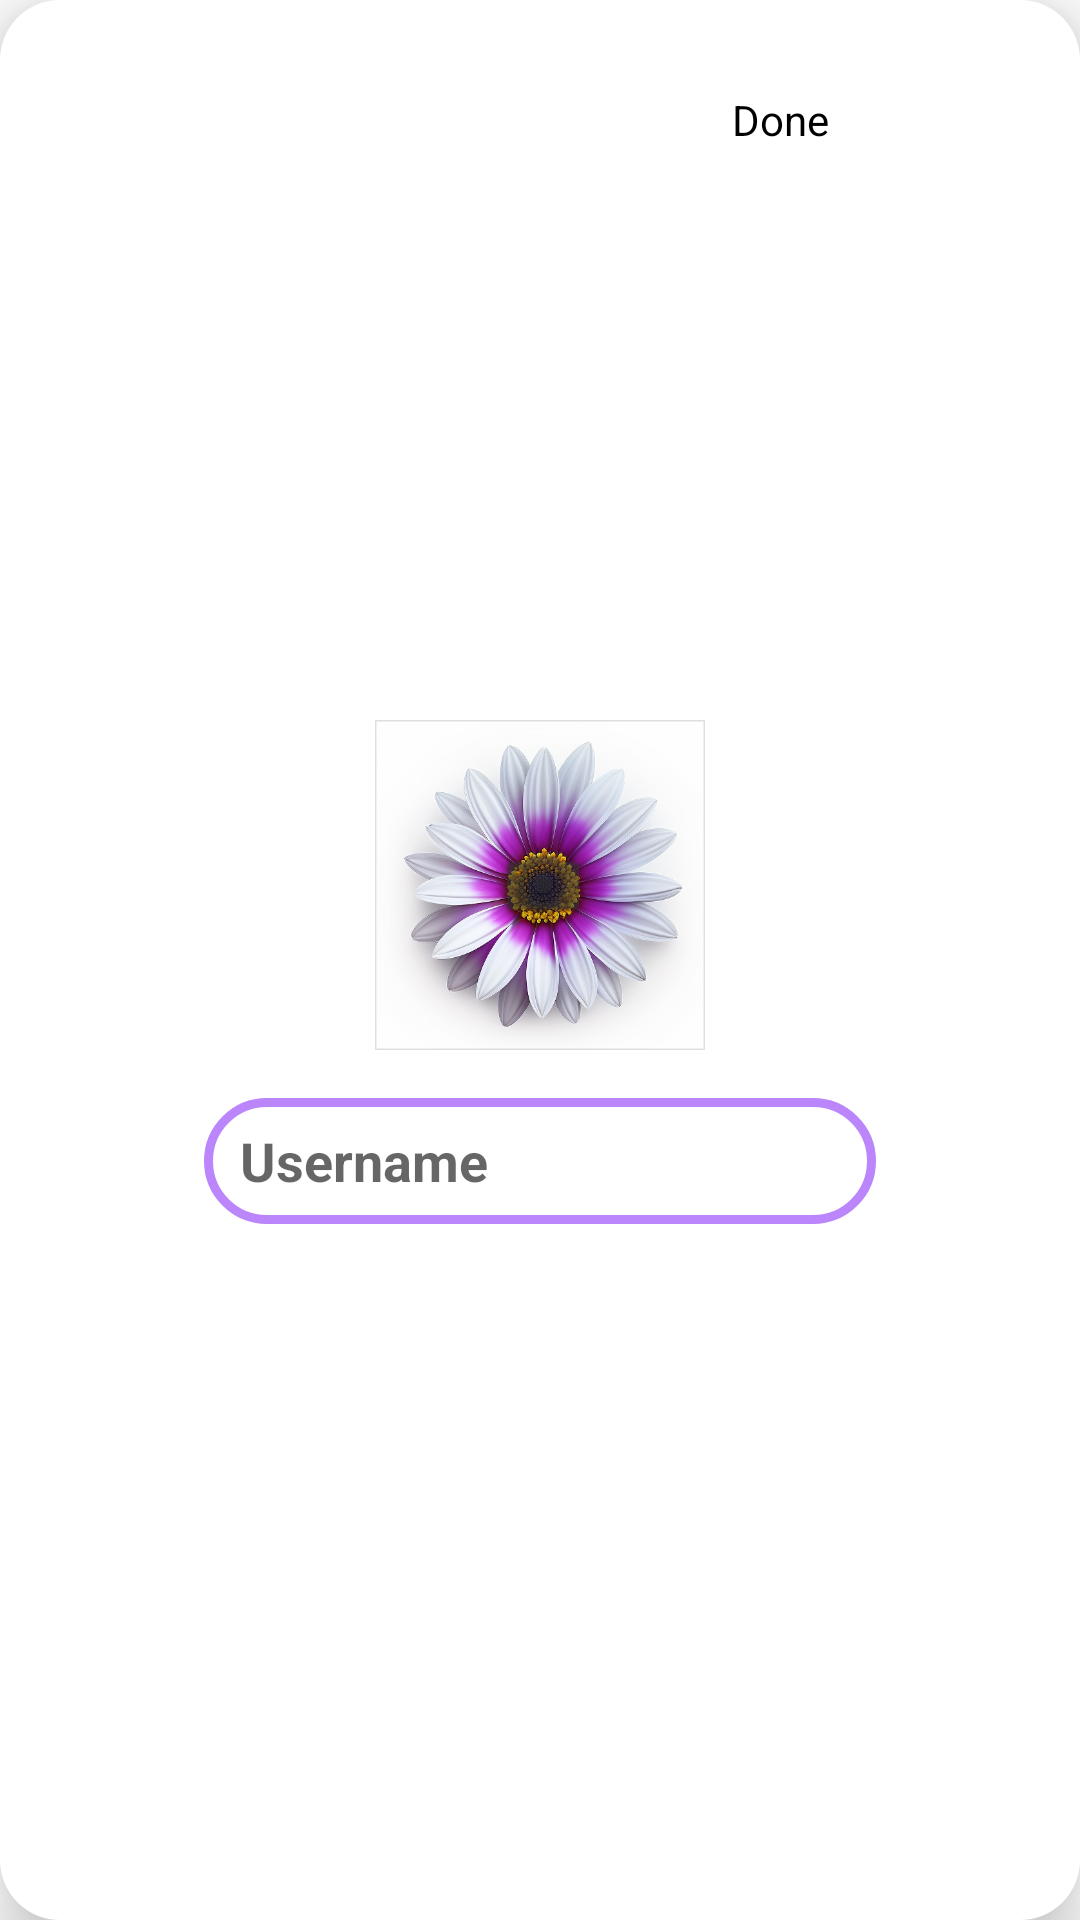

Screen size 1080px x 1920px. Icon name, then its box in pixels as [left=x1, top=y1, right=x2, bottom=y2]:
daisy purp: [left=375, top=720, right=705, bottom=1050]
